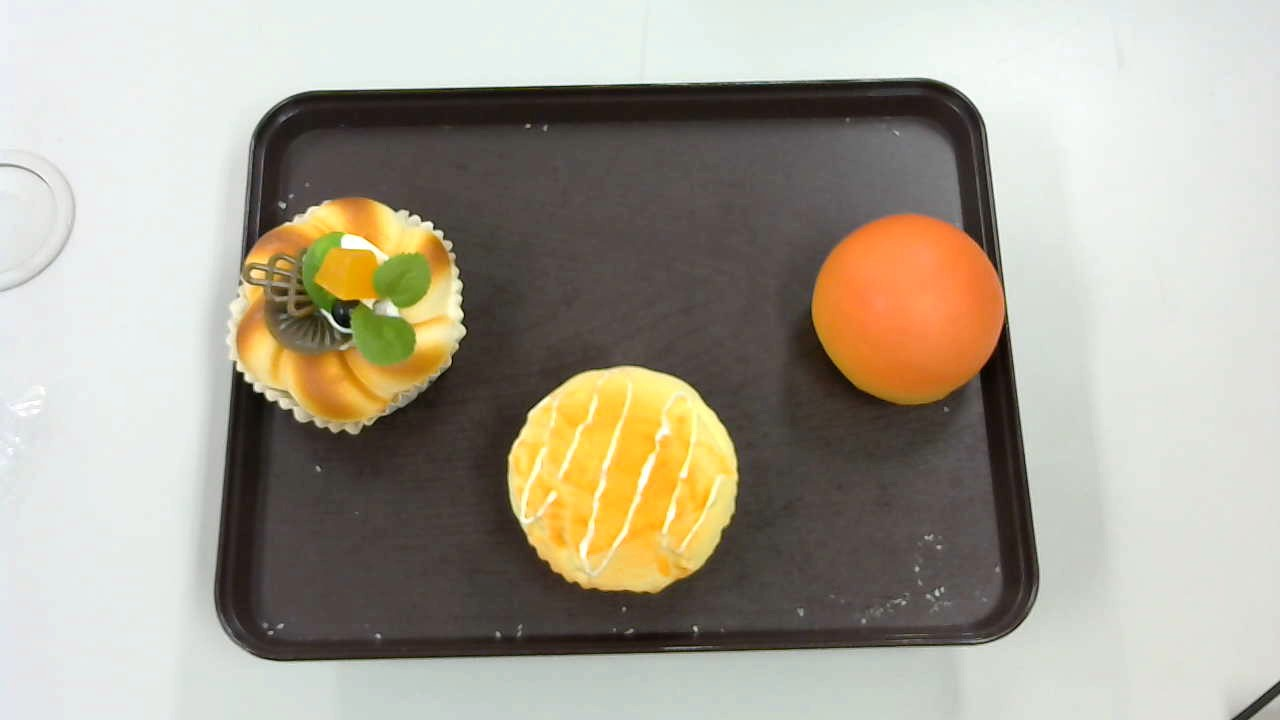bun: (812, 212, 1009, 405)
cupcake: (506, 364, 738, 595)
fruit tart: (226, 197, 465, 436)
